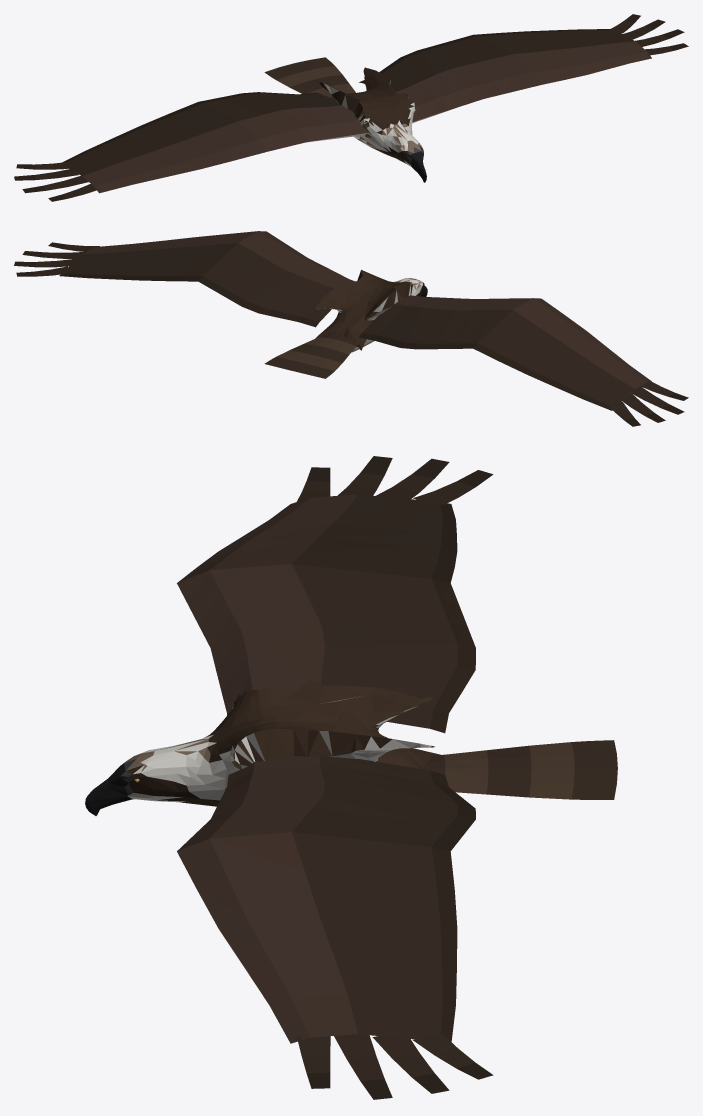
File: osprey.glb
3 renders of one model, top to bottom at view 1: azimuth 30°, elevation 25°; view 2: azimuth 150°, elevation 25°; view 3: azimuth 270°, elevation 25°, orthographic. The views are drawn at different scales.
Parts seen in each view (by area): view 1: lod0; view 2: lod0; view 3: lod0.
Part boxes in pixels (left/top/right/bottom): lod0: left=14, top=14, right=688, bottom=201; lod0: left=14, top=231, right=688, bottom=426; lod0: left=85, top=456, right=617, bottom=1099.
Size of what is drawn, in the model's own units: 1.61 by 0.1385 by 0.5641.
